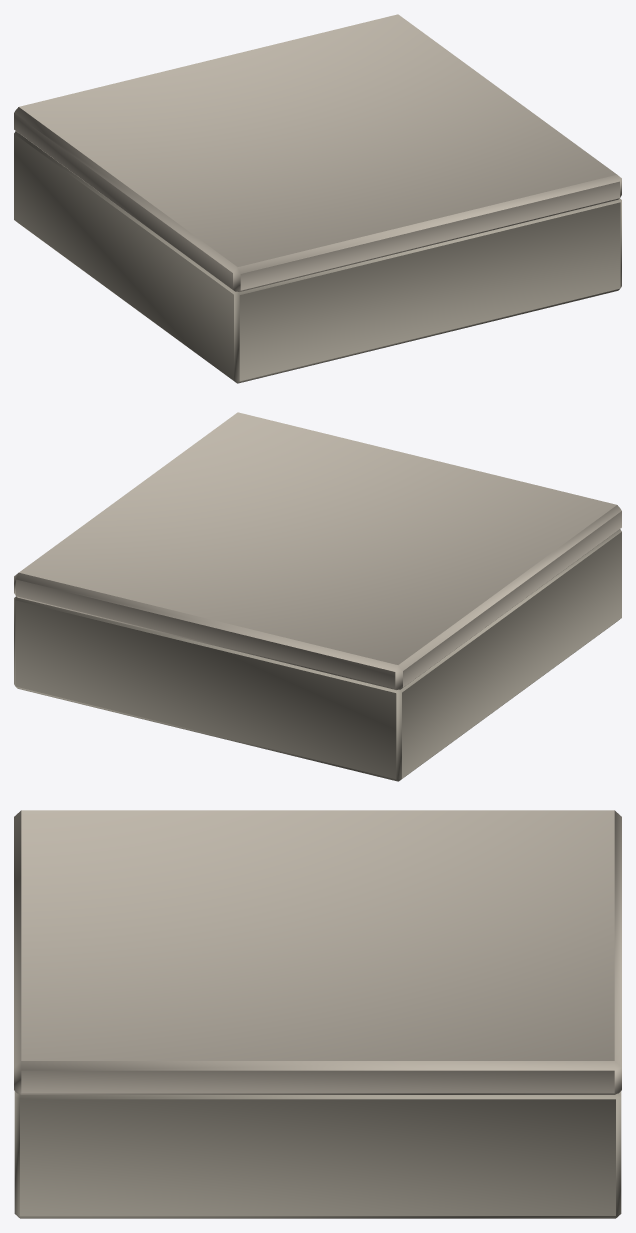
File: tile_stone_clearing.glb
3 renders of one model, top to bottom at view 1: azimuth 30°, elevation 25°; view 2: azimuth 150°, elevation 25°; view 3: azimuth 270°, elevation 25°, orthographic. The views are drawn at different scales.
Visible parts, largest first — view 1: sc_cap, sc_body; view 2: sc_cap, sc_body; view 3: sc_cap, sc_body.
Boxes of the visible parts, x1=… form: sc_cap: x1=14, y1=14, x2=621, y2=291; sc_body: x1=14, y1=131, x2=621, y2=383; sc_cap: x1=14, y1=412, x2=621, y2=689; sc_body: x1=14, y1=529, x2=621, y2=781; sc_cap: x1=14, y1=810, x2=621, y2=1094; sc_body: x1=14, y1=1091, x2=621, y2=1218.
Size of the model in its own units: 2 by 0.57 by 2.
